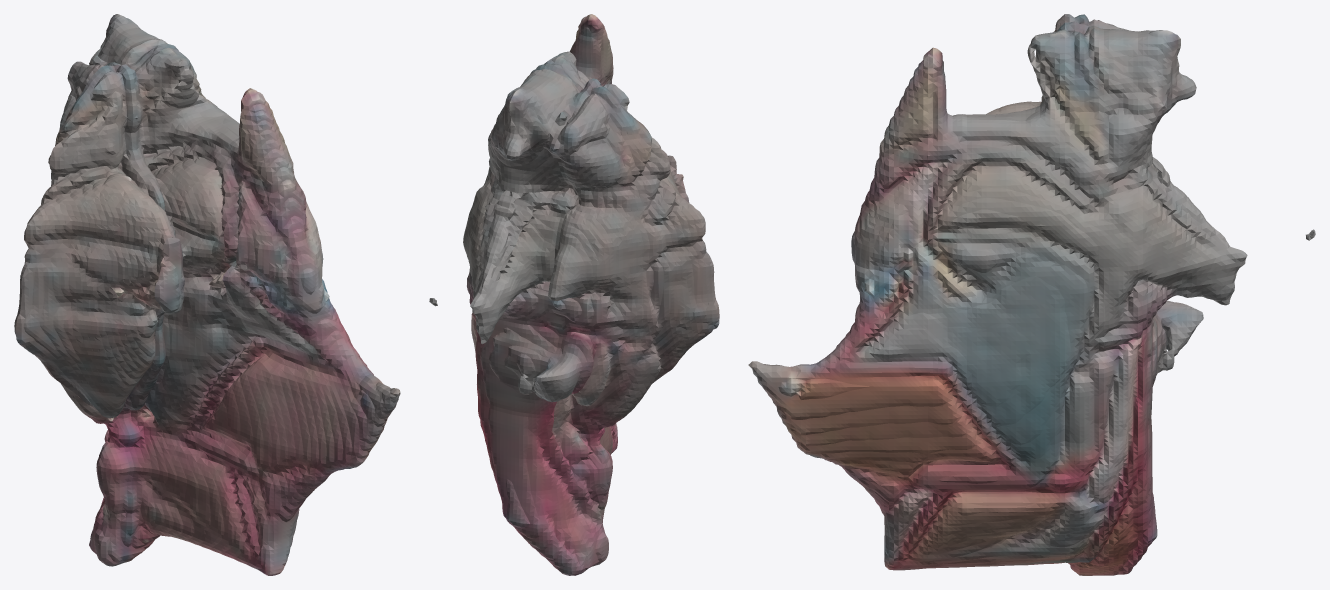
3 views of the same model, side by side, from view 1: azimuth 30°, elevation 25°; view 2: azimuth 150°, elevation 25°; view 3: azimuth 270°, elevation 25° (orthographic). The views are drawn at different scales.
Visible parts, largest first — view 1: world; view 2: world; view 3: world.
Boxes of the visible parts, left/top/right/bottom form: world: left=14, top=14, right=400, bottom=575; world: left=429, top=14, right=719, bottom=575; world: left=748, top=14, right=1315, bottom=575.
Size of the model in its own units: 0.4561 by 0.8653 by 0.7926.
